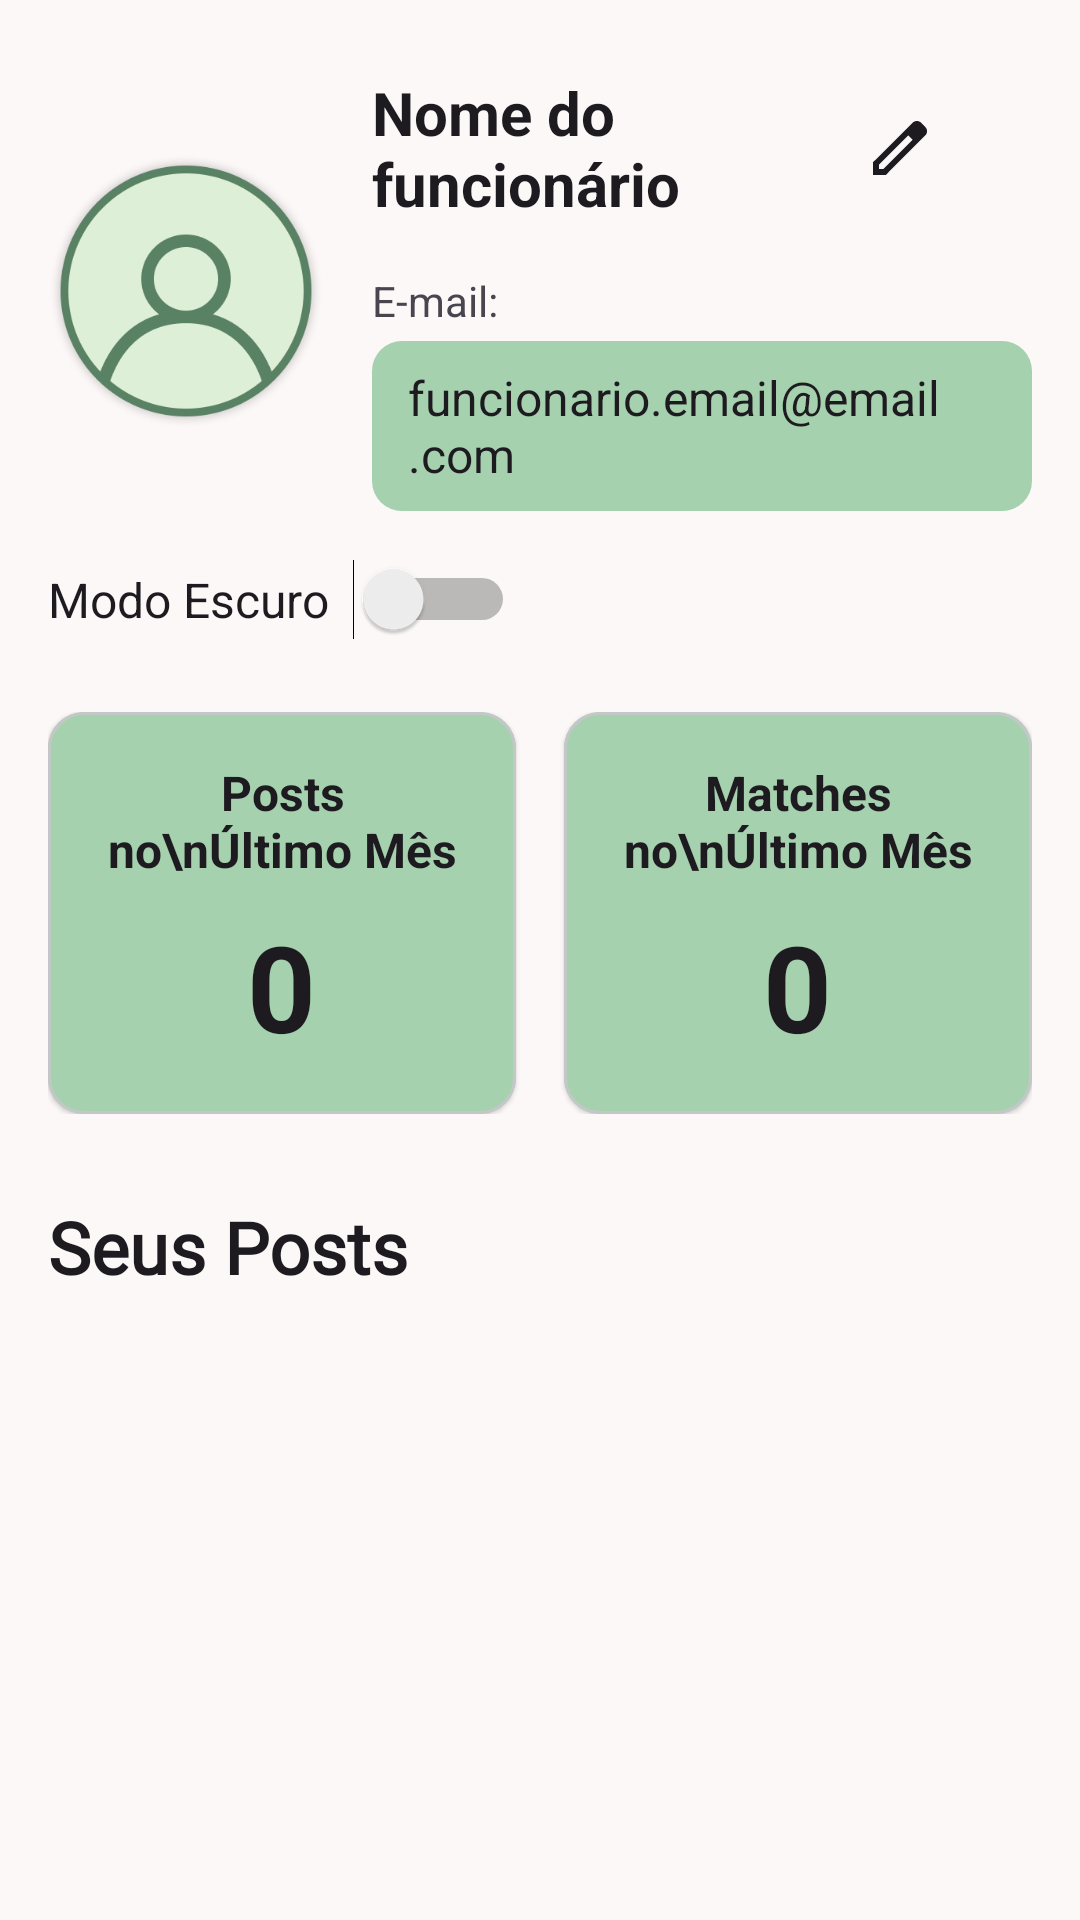

Icons on this 1080*1920 Android screen, each with the point to tap as (x=x, y=y):
edit: (x=900, y=148)
photo: (x=186, y=291)
